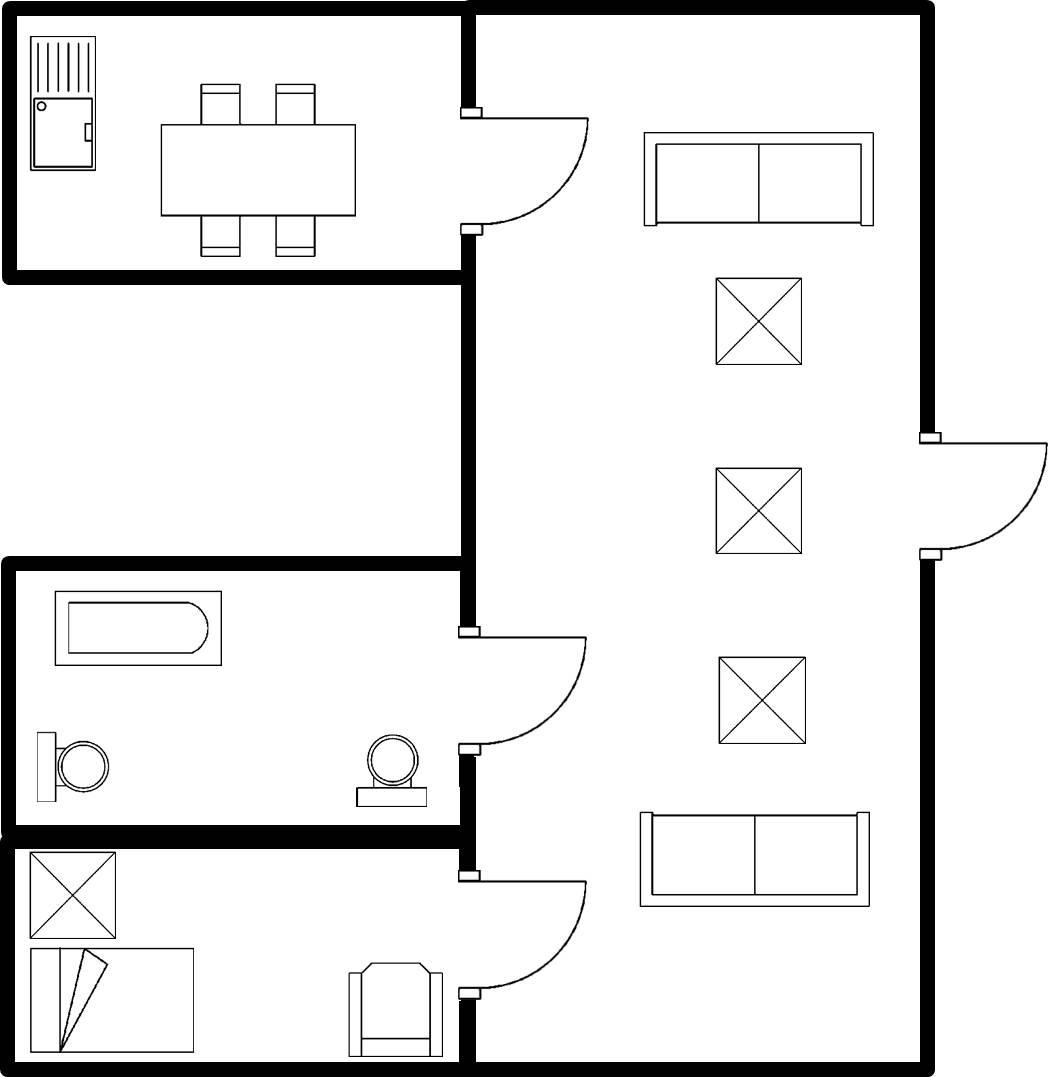bed: (22, 941, 199, 1058)
dining_table: (148, 73, 364, 266)
sink: (22, 27, 104, 177)
sofa: (633, 123, 884, 236), (630, 803, 877, 916)
toilet: (350, 726, 437, 814), (27, 725, 114, 809)
tub: (46, 580, 227, 676)
